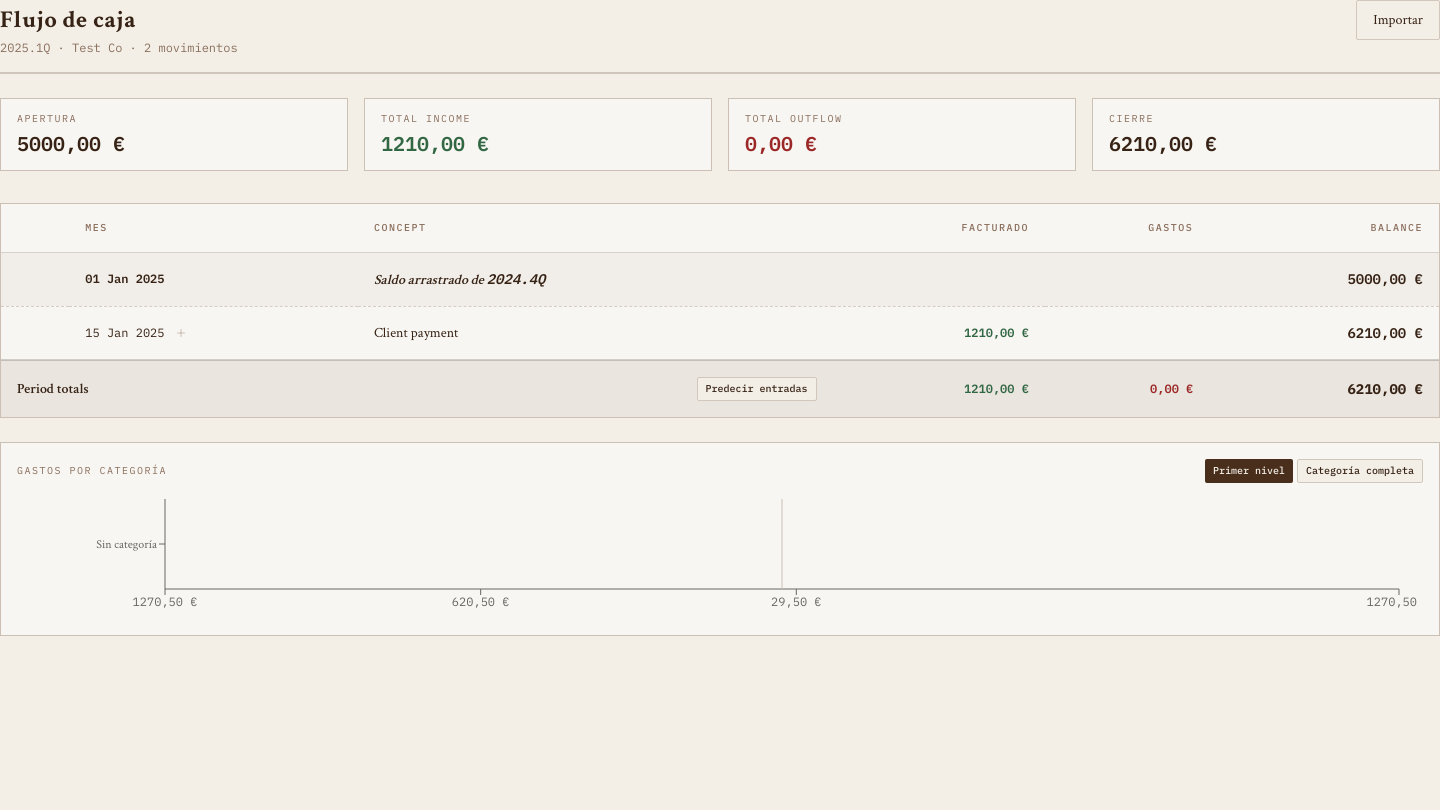
Test: CashflowView › shows Close instead of Import after a successful import
Click the button "Importar". click: coordinates (1398, 20)
box: [1356,0,1439,40]
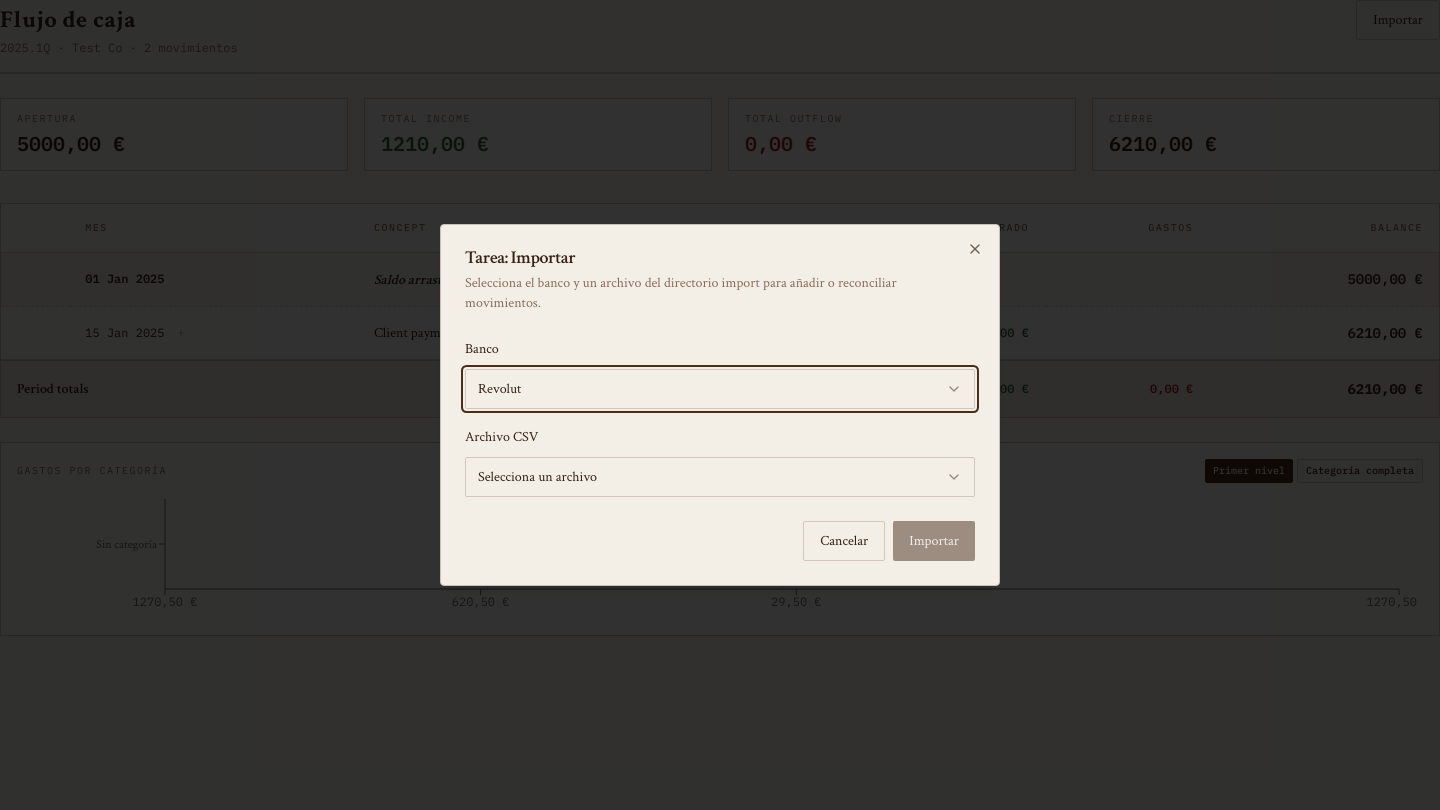
Press ArrowDown in the dropdown labelled "Selecciona un archivo", box [465,457,975,497]
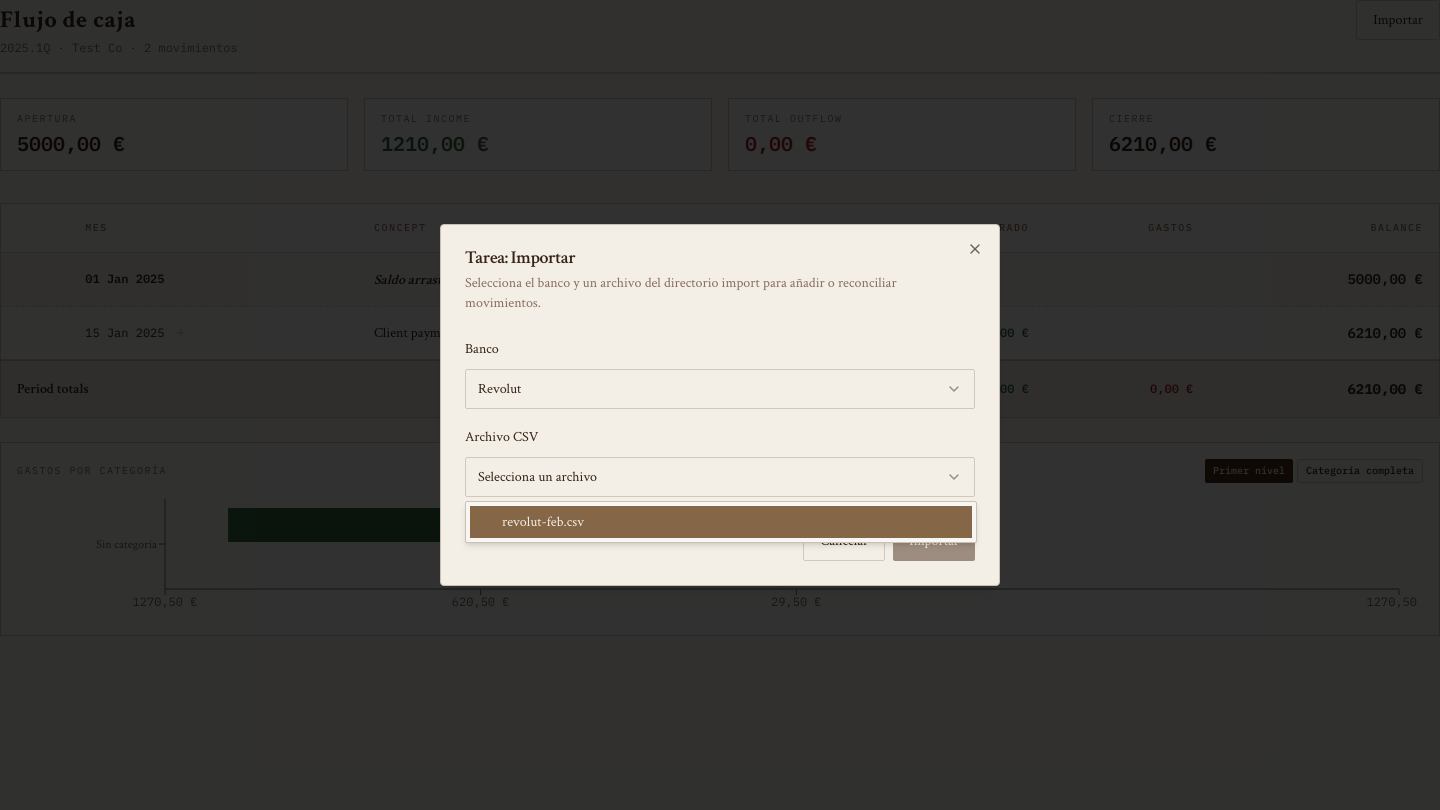
Click the option "revolut-feb.csv". click: coordinates (543, 522)
box: [470,506,972,538]
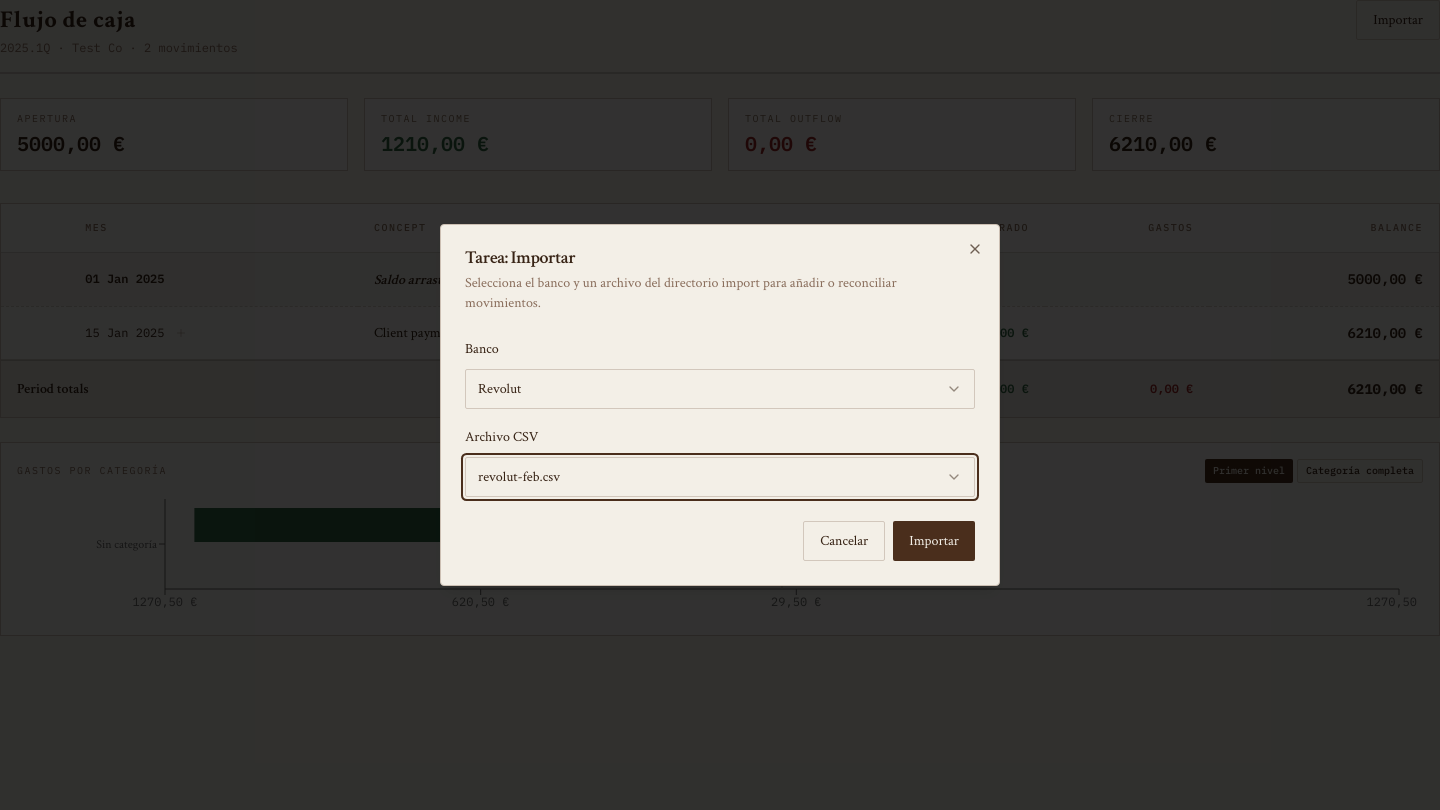
Click the button "Importar". click: coordinates (934, 541)
box: [893,521,975,561]
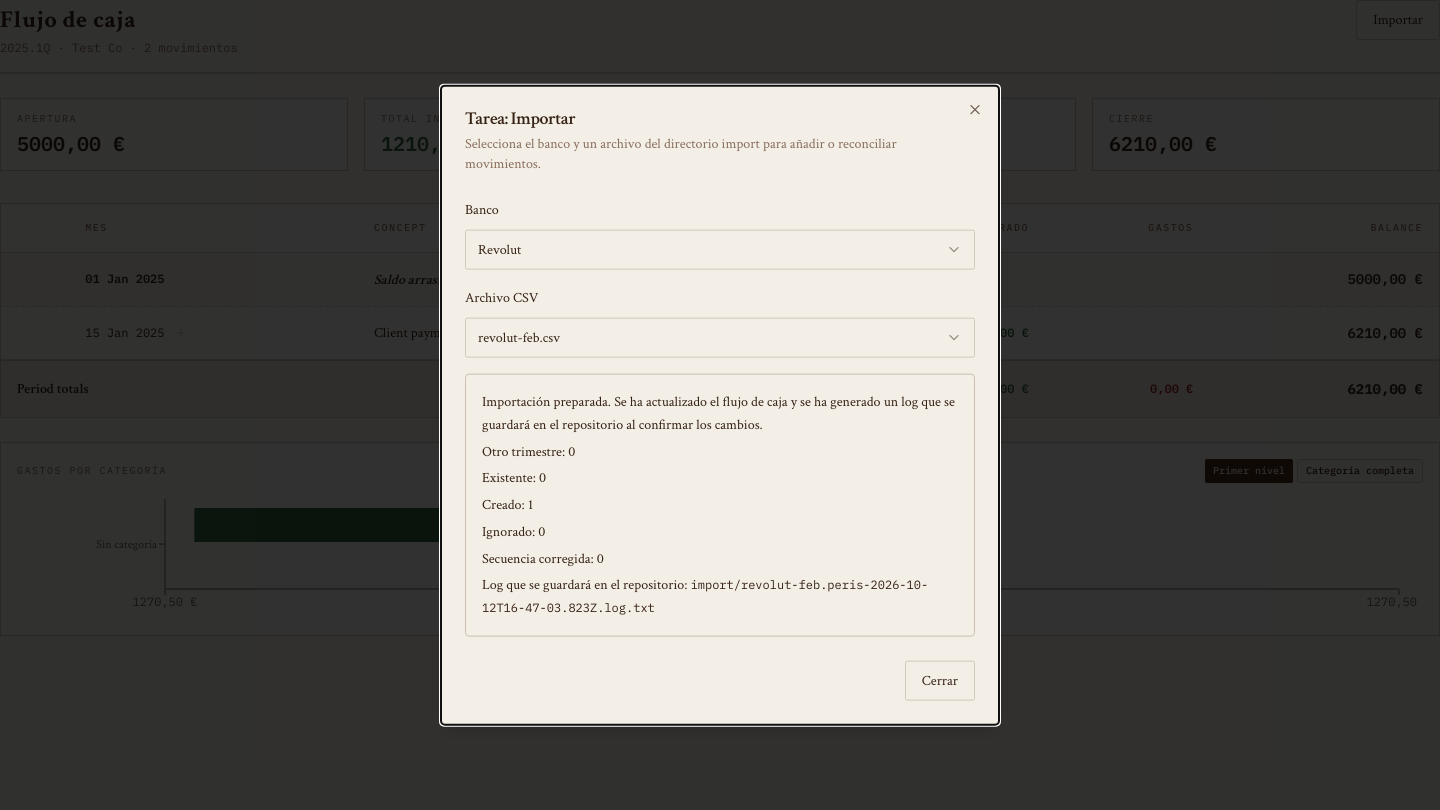
expect the text "Log que se guardará en el repositorio:" is shown: met, box [482,574,958,619]
expect the button "Cerrar" is shown: met, box [905,660,975,700]
